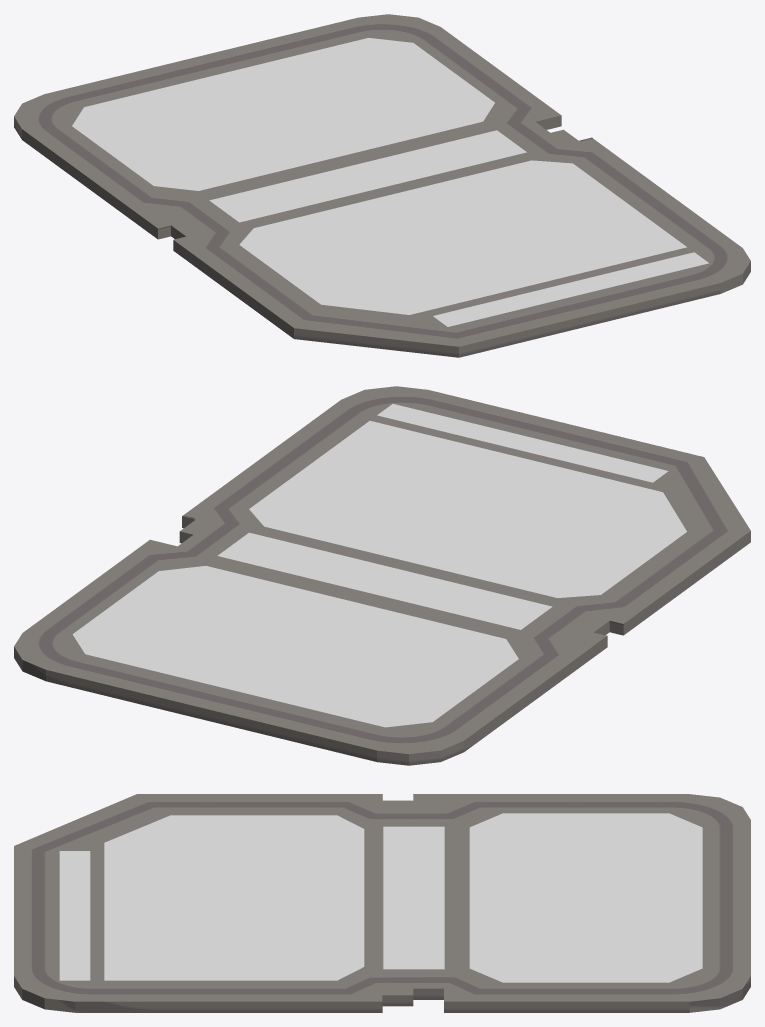
File: Card Model.fbx
The picture shows the model from 3 angles, top to bottom: view 1: azimuth 30°, elevation 25°; view 2: azimuth 150°, elevation 25°; view 3: azimuth 270°, elevation 25°; orthographic projection. The views are drawn at different scales.
Parts seen in each view (by area): view 1: Cube, Plane, Plane.001, Plane.002, Plane.003; view 2: Cube, Plane, Plane.001, Plane.002, Plane.003; view 3: Cube, Plane, Plane.001, Plane.002, Plane.003.
Part boxes in pixels (<box>): Cube: <box>14,14,750,357</box>; Plane: <box>239,160,686,314</box>; Plane.001: <box>72,38,494,190</box>; Plane.002: <box>209,130,526,222</box>; Plane.003: <box>433,252,708,326</box>; Cube: <box>14,386,750,765</box>; Plane: <box>249,421,686,597</box>; Plane.001: <box>72,566,518,727</box>; Plane.002: <box>217,532,552,629</box>; Plane.003: <box>377,404,668,482</box>; Cube: <box>14,794,750,1012</box>; Plane: <box>104,815,364,980</box>; Plane.001: <box>469,813,702,982</box>; Plane.002: <box>383,826,444,969</box>; Plane.003: <box>59,851,90,980</box>.
Size of the model in its own units: 21 by 800 by 1200.
2 materials, 1 textured.
